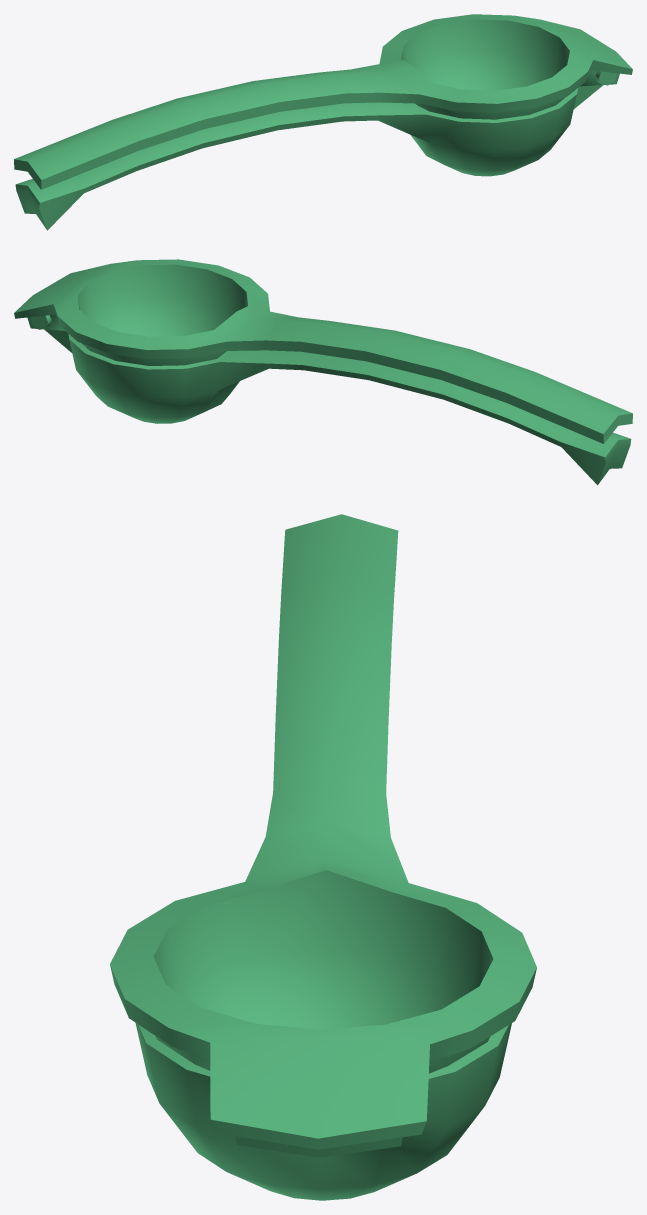
File: Juicer-u163YY9Vc1.glb
3 renders of one model, top to bottom at view 1: azimuth 30°, elevation 25°; view 2: azimuth 150°, elevation 25°; view 3: azimuth 270°, elevation 25°, orthographic. The views are drawn at different scales.
Visible parts, largest first — view 1: juicer_juicer_mechanical_top_Sphere.001, juicer_mechanical_Sphere.002; view 2: juicer_juicer_mechanical_top_Sphere.001, juicer_mechanical_Sphere.002; view 3: juicer_juicer_mechanical_top_Sphere.001, juicer_mechanical_Sphere.002.
Part boxes in pixels (x1,y1,x2,y2): juicer_juicer_mechanical_top_Sphere.001: (14,14,632,189); juicer_mechanical_Sphere.002: (15,85,603,230); juicer_juicer_mechanical_top_Sphere.001: (14,259,632,443); juicer_mechanical_Sphere.002: (44,329,631,485); juicer_juicer_mechanical_top_Sphere.001: (110,514,536,1157); juicer_mechanical_Sphere.002: (135,1022,511,1200).
Size of the model in its own units: 6.68 by 1.49 by 2.12.
1 material, 1 textured.
